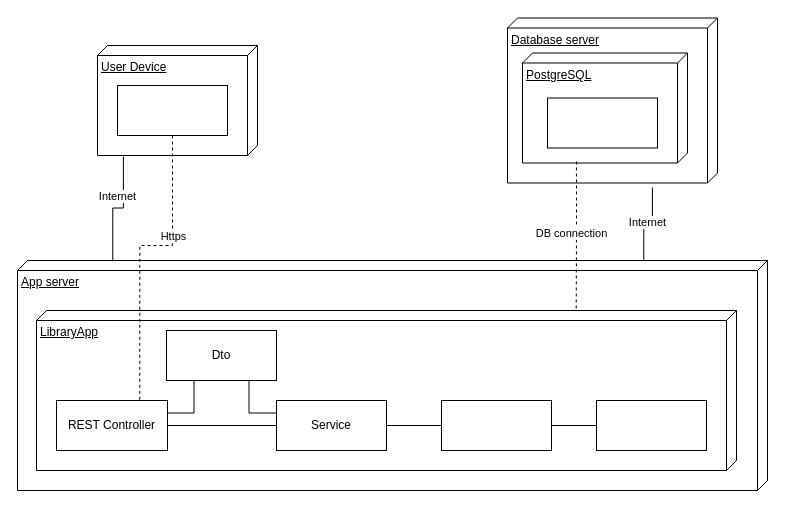
This 785x508 diagram has some shape labels left out. Here are the shapes that lost their labels. From the top down, the centre of each, then its label:
point 172,110: Web browser
point 602,122: LibraryDB
point 496,425: Repository
point 651,425: JPA
